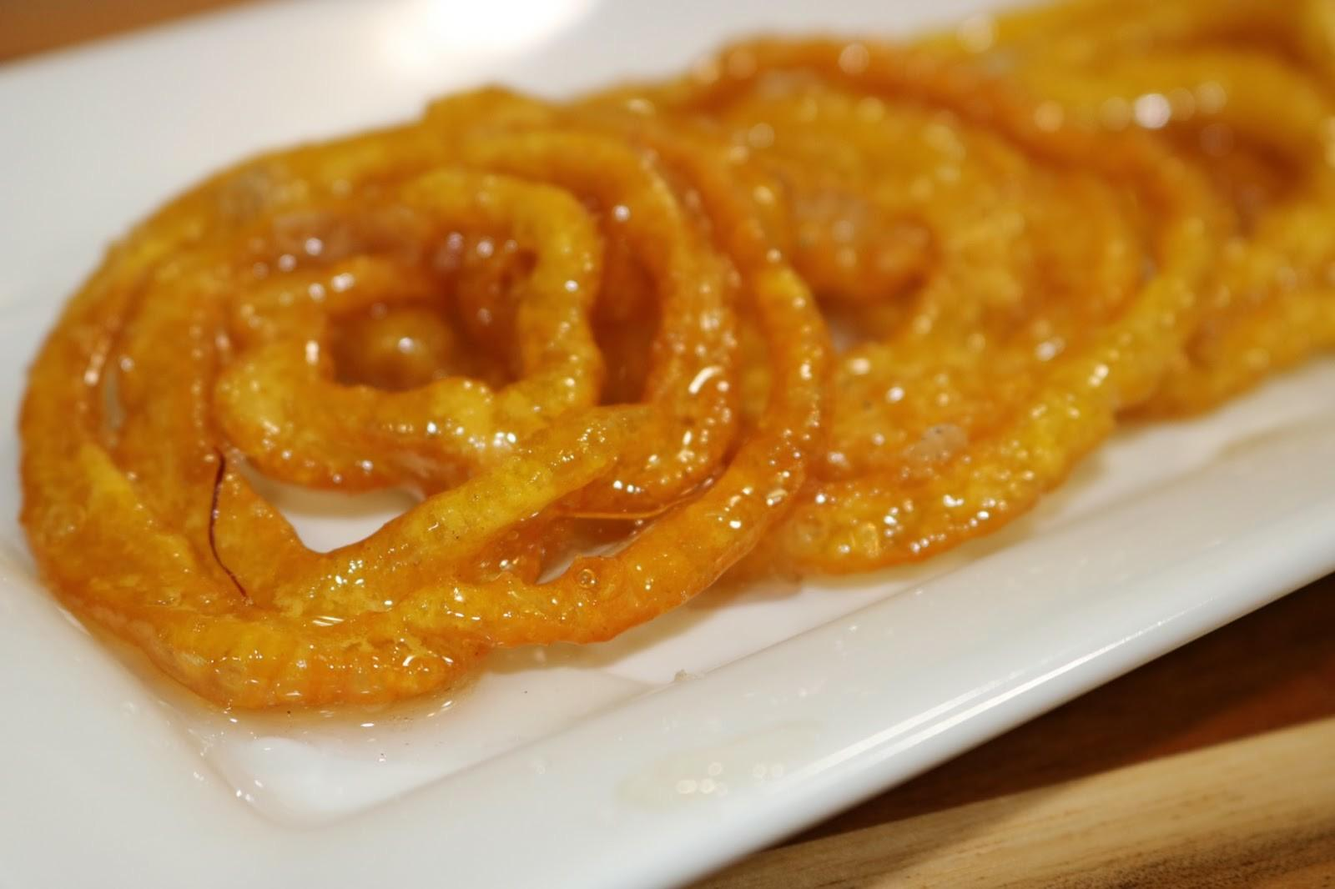Jalebi: (24, 47, 1335, 712)
